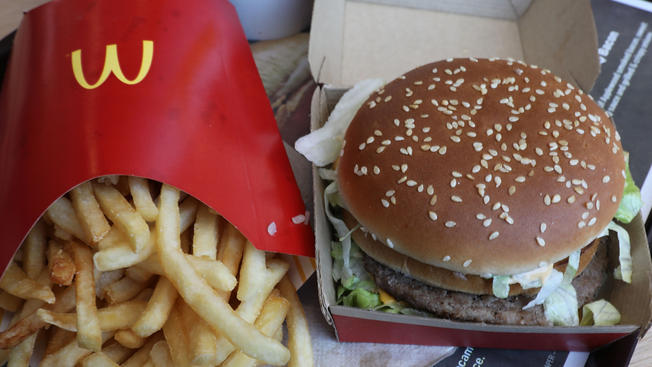mcdonalds: (67, 28, 173, 97)
